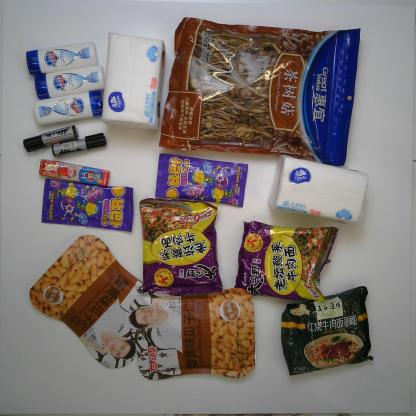Candy: (154, 152, 248, 208), (41, 177, 134, 232), (38, 158, 110, 188)
Dried Food: (158, 16, 361, 168)
Dried Fruit: (29, 233, 157, 368), (127, 288, 257, 382)
Instant Noodles: (233, 220, 339, 302), (280, 285, 374, 376), (139, 196, 224, 296)
Personal Hygiene: (25, 40, 98, 76), (34, 89, 103, 126), (34, 64, 106, 99)
Stationery: (22, 124, 79, 153), (50, 132, 106, 158)
Tissue: (268, 154, 370, 226), (101, 31, 166, 131)
